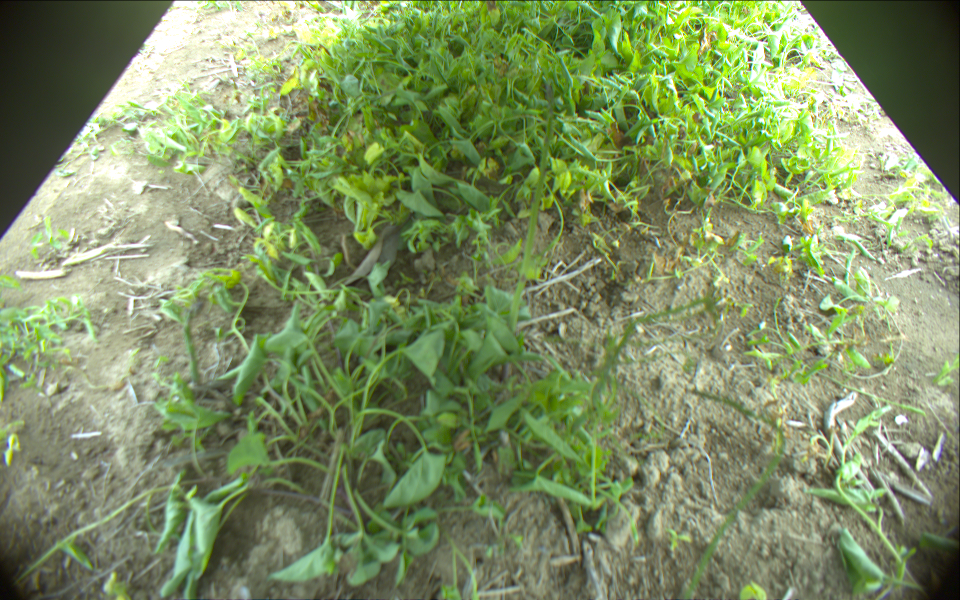aspa: (505, 78, 557, 335), (183, 304, 198, 390)
